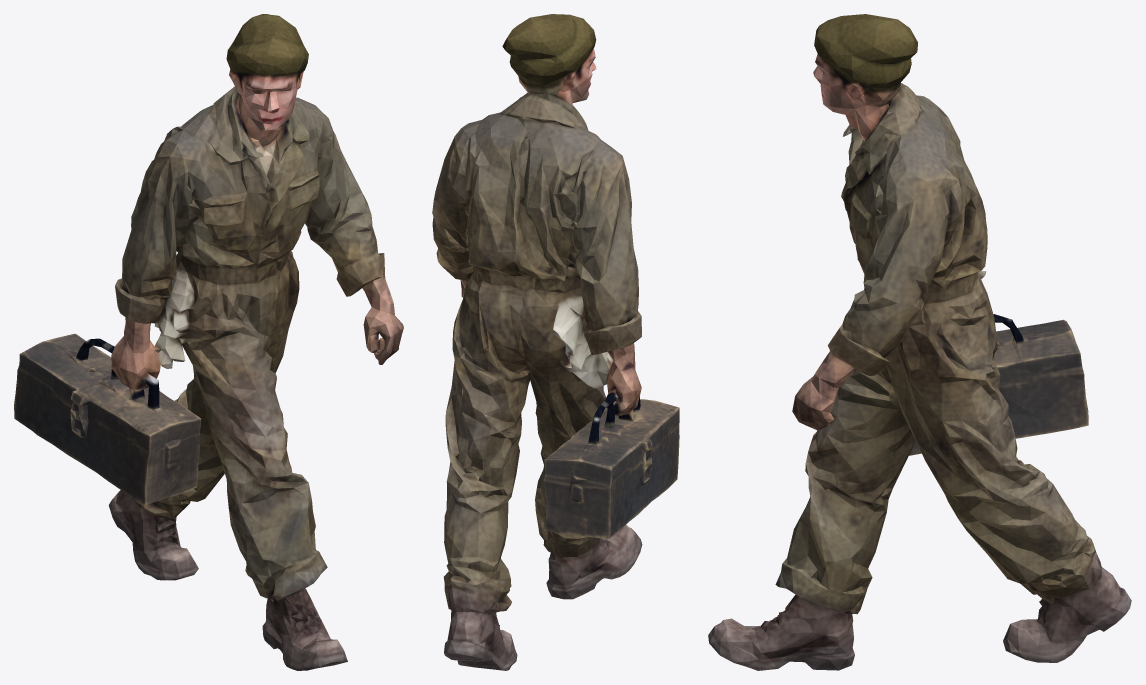
The model's file is walk_us_mech_a.obj.
The picture shows the model from 3 angles, left to right: view 1: azimuth 30°, elevation 25°; view 2: azimuth 150°, elevation 25°; view 3: azimuth 270°, elevation 25°; orthographic projection. The views are drawn at different scales.
Visible parts, largest first — view 1: walk_us_mech_a; view 2: walk_us_mech_a; view 3: walk_us_mech_a.
Boxes of the visible parts, x1,y1,x2,y2 form: walk_us_mech_a: [14, 14, 403, 670]; walk_us_mech_a: [432, 14, 679, 670]; walk_us_mech_a: [708, 14, 1131, 670].
Size of the model in its own units: 0.8477 by 1.8 by 1.07.
Materials: 1 (1 with a texture image).
